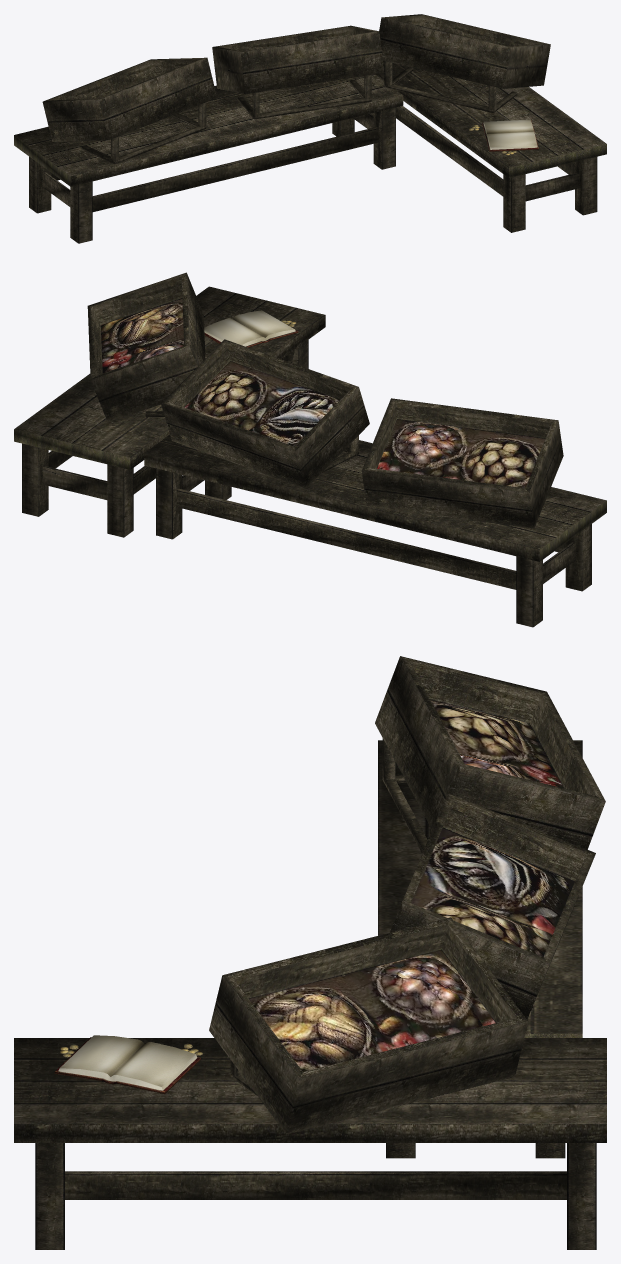
The model's file is KM_VOB_FOOD_STALL_01.glb.
3 renders of one model, top to bottom at view 1: azimuth 30°, elevation 25°; view 2: azimuth 150°, elevation 25°; view 3: azimuth 270°, elevation 25°, orthographic. The views are drawn at different scales.
Visible parts, largest first — view 1: Mesh; view 2: Mesh; view 3: Mesh.
Boxes of the visible parts, x1,y1,x2,y2 form: Mesh: [14, 14, 606, 243]; Mesh: [14, 272, 606, 627]; Mesh: [14, 656, 606, 1249].
Bounding box in the file's own units: 4.86 × 1.37 × 3.01.
Materials: 6 (6 with a texture image).
